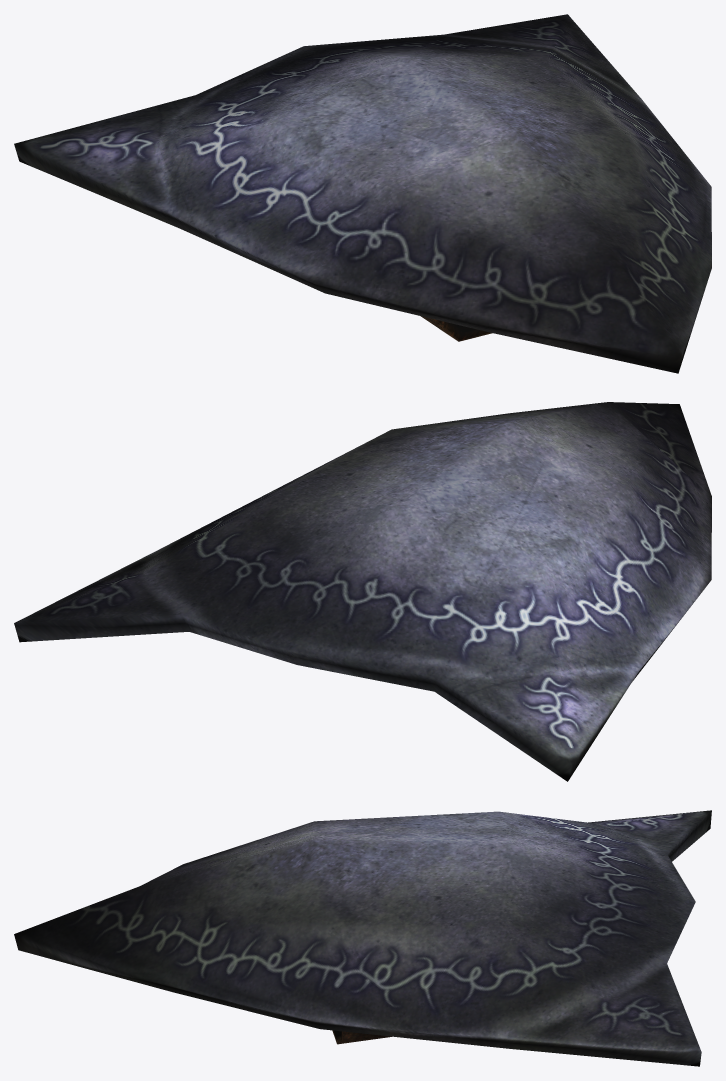
File: SH_Shield_C_LOD.FBX
3 views of the same model, one above another, from view 1: azimuth 30°, elevation 25°; view 2: azimuth 150°, elevation 25°; view 3: azimuth 270°, elevation 25° (orthographic). The views are drawn at different scales.
Visible parts, largest first — view 1: SH_Shield_C_LOD; view 2: SH_Shield_C_LOD; view 3: SH_Shield_C_LOD.
Part boxes in pixels (left/top/right/bottom): SH_Shield_C_LOD: left=14, top=14, right=711, bottom=373; SH_Shield_C_LOD: left=14, top=402, right=711, bottom=781; SH_Shield_C_LOD: left=14, top=810, right=711, bottom=1066.
Bounding box in the file's own units: 58.75 × 21.22 × 71.66.
